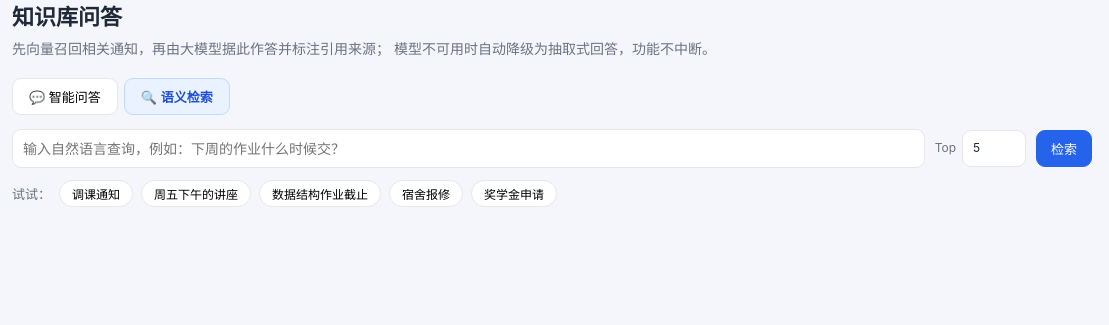
Search 组件 › filtered=true 时提示「未找到相关内容」（有候选但都不相关）
Type "工作坊报名什么时候截止" into the field at (468, 149), box [12,129,925,168]
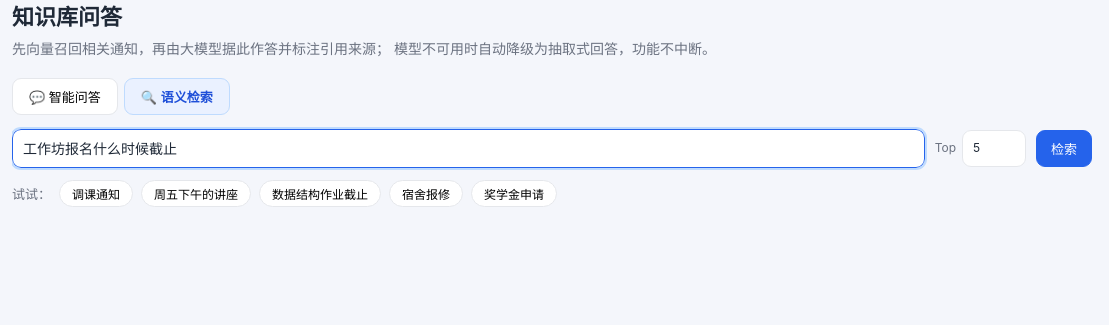
Click the button "检索" at (1064, 149), box [1036,130,1092,167]
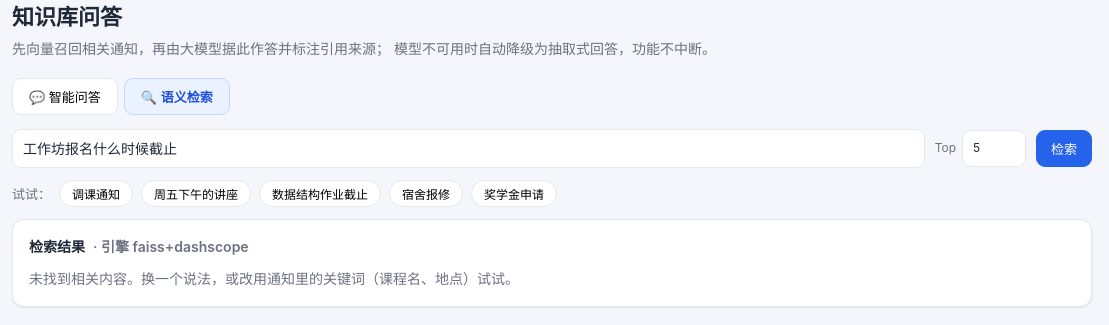
Check: the text "未找到相关内容。换一个说法，或改用通知里的关键词（课程名、地点）试试。" is shown, box [29,270,519,287]
